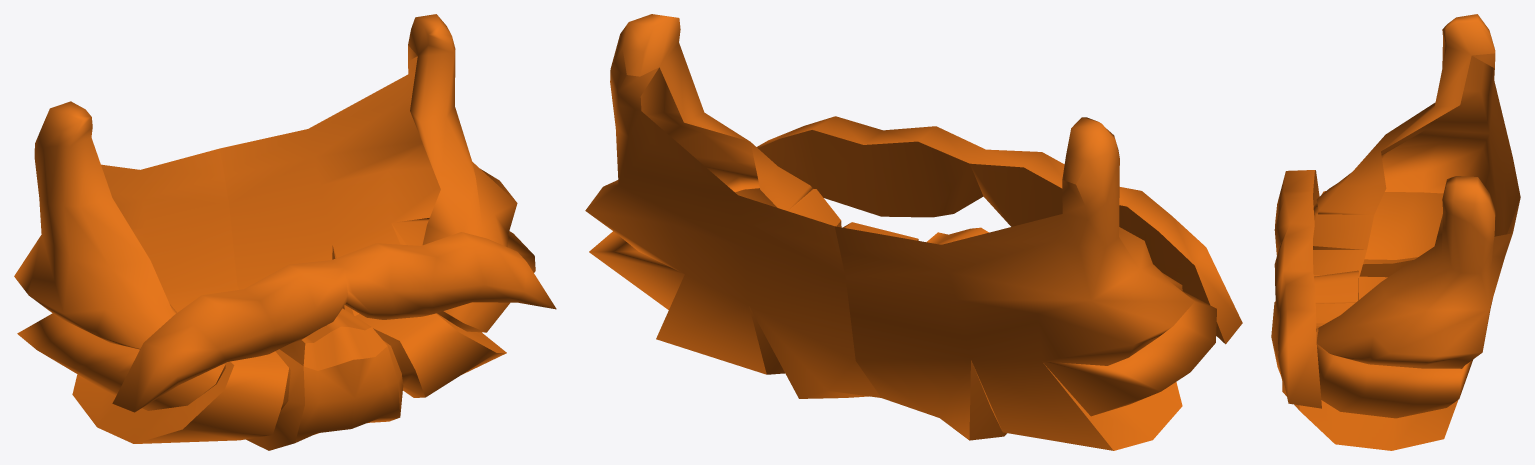
Rendered from Beard_Orange_16.fbx.
The picture shows the model from 3 angles, left to right: view 1: azimuth 30°, elevation 25°; view 2: azimuth 150°, elevation 25°; view 3: azimuth 270°, elevation 25°; orthographic projection. The views are drawn at different scales.
Visible parts, largest first — view 1: Beard_Orange_16; view 2: Beard_Orange_16; view 3: Beard_Orange_16.
Part boxes in pixels (x1=…): Beard_Orange_16: x1=14, y1=14, x2=556, y2=450; Beard_Orange_16: x1=585, y1=14, x2=1242, y2=450; Beard_Orange_16: x1=1271, y1=14, x2=1520, y2=450.
Bounding box in the file's own units: 61.15 × 39 × 30.01.
